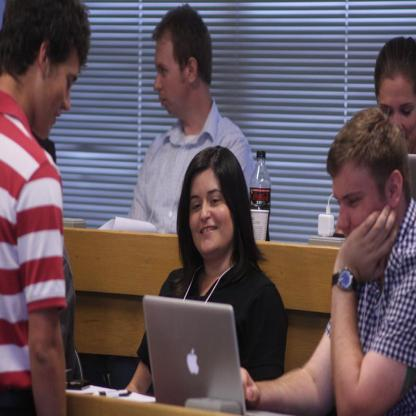board: (140, 290, 254, 415), (251, 147, 273, 241), (404, 153, 416, 202)
